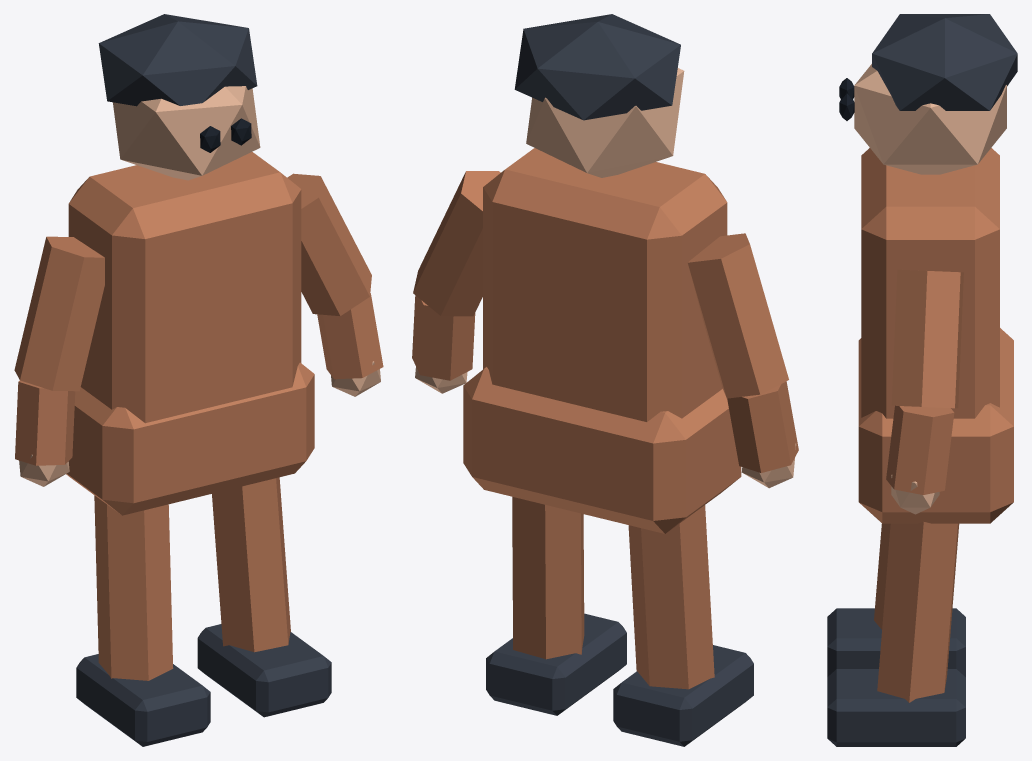
The model's file is npcs_034_seed78877.glb.
3 renders of one model, left to right at view 1: azimuth 30°, elevation 25°; view 2: azimuth 150°, elevation 25°; view 3: azimuth 270°, elevation 25°, orthographic. The views are drawn at different scales.
Parts seen in each view (by area): view 1: npcs_034_seed78877; view 2: npcs_034_seed78877; view 3: npcs_034_seed78877.
Part boxes in pixels (x1,y1,x2,y2): npcs_034_seed78877: (14,14,383,746); npcs_034_seed78877: (412,14,798,746); npcs_034_seed78877: (827,14,1017,746).
Size of the model in its own units: 1.13 by 1.99 by 0.5031.
